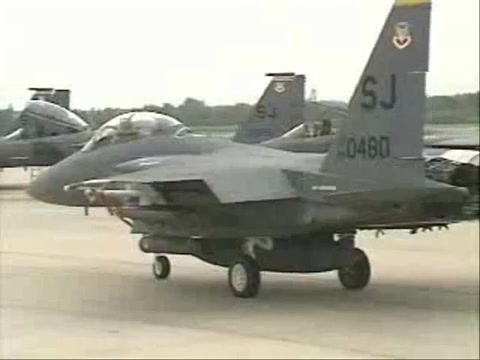aeroplane: (26, 2, 480, 302)
